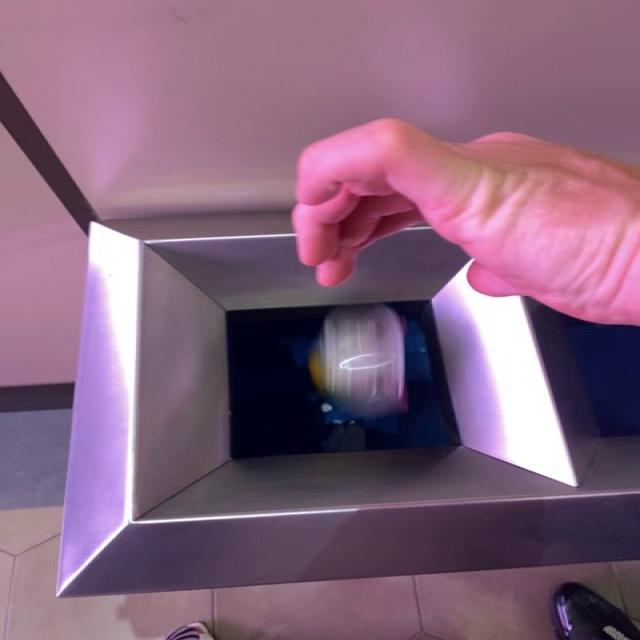bin: (57, 215, 639, 596)
metal: (309, 304, 408, 419)
